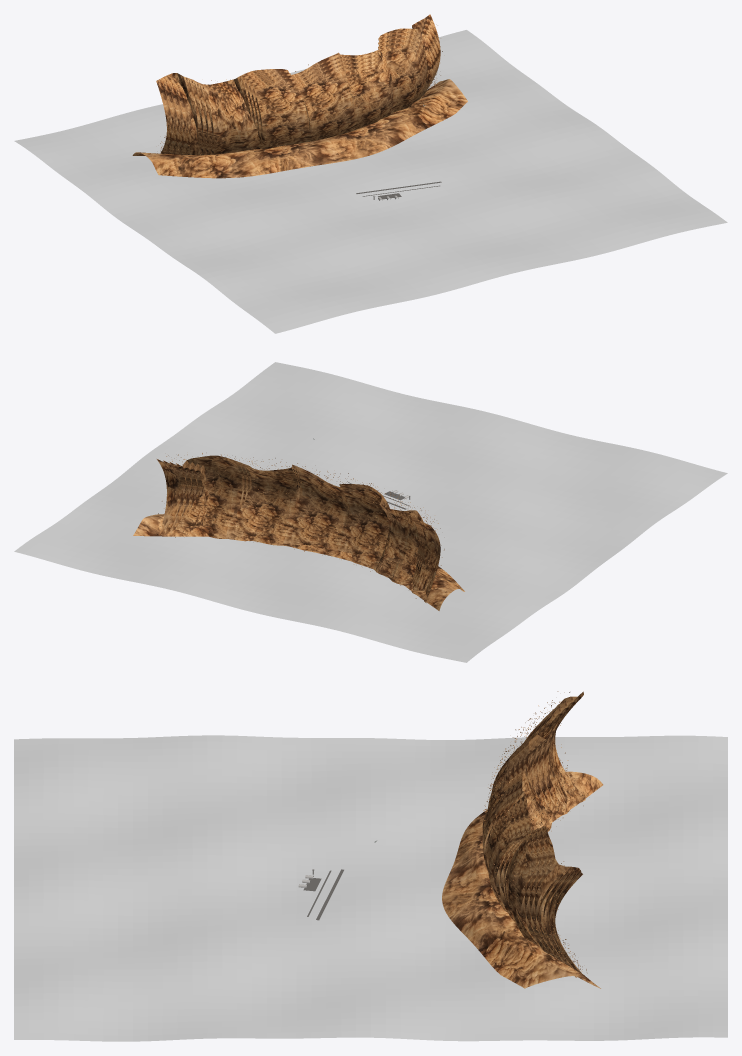
The model's file is haboob_cinematic.glb.
3 renders of one model, top to bottom at view 1: azimuth 30°, elevation 25°; view 2: azimuth 150°, elevation 25°; view 3: azimuth 270°, elevation 25°, orthographic. The views are drawn at different scales.
Parts seen in each view (by area): view 1: Desert_Terrain, Haboob_Shell_3, Haboob_Ground_Apron, Haboob_Wall_Main, Haboob_Shell_1, Haboob_Shell_2; view 2: Desert_Terrain, Haboob_Wall_Main, Haboob_Ground_Apron, Haboob_Debris_Particles, Haboob_Shell_1, Haboob_Shell_2; view 3: Desert_Terrain, Haboob_Ground_Apron, Haboob_Shell_3, Haboob_Wall_Main, Haboob_Shell_1, Haboob_Shell_2, Haboob_Debris_Particles.
Part boxes in pixels (x1,y1,x2,y2): Desert_Terrain: [14, 30, 727, 333]; Haboob_Shell_3: [175, 29, 434, 155]; Haboob_Ground_Apron: [132, 79, 467, 178]; Haboob_Wall_Main: [156, 14, 440, 154]; Haboob_Shell_1: [163, 19, 438, 155]; Haboob_Shell_2: [169, 24, 436, 154]; Desert_Terrain: [14, 362, 727, 662]; Haboob_Wall_Main: [157, 455, 440, 602]; Haboob_Ground_Apron: [133, 514, 464, 610]; Haboob_Debris_Particles: [156, 453, 444, 600]; Haboob_Shell_1: [163, 457, 426, 592]; Haboob_Shell_2: [169, 462, 421, 581]; Desert_Terrain: [14, 735, 727, 1041]; Haboob_Ground_Apron: [442, 771, 603, 988]; Haboob_Shell_3: [482, 713, 563, 959]; Haboob_Wall_Main: [505, 691, 585, 974]; Haboob_Shell_1: [497, 701, 576, 968]; Haboob_Shell_2: [490, 708, 569, 964]; Haboob_Debris_Particles: [482, 691, 587, 977].
Bounding box in the file's own units: 7000 × 1251 × 7000.
5 materials, 1 textured.
